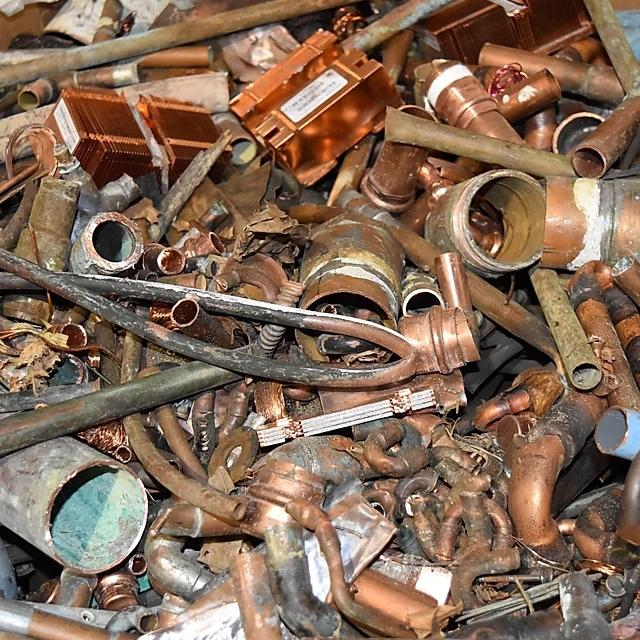metal: (0, 230, 425, 421), (0, 329, 286, 472), (0, 0, 460, 86), (227, 16, 418, 194), (0, 403, 152, 585), (281, 197, 429, 371), (488, 376, 620, 570), (377, 99, 639, 185), (342, 242, 504, 380), (404, 159, 559, 287), (27, 71, 159, 212), (410, 48, 546, 174), (408, 0, 605, 85), (129, 80, 236, 218), (519, 246, 615, 399), (281, 604, 625, 640), (212, 543, 330, 640), (130, 497, 223, 597), (0, 589, 170, 640), (568, 71, 639, 192), (329, 0, 482, 54), (357, 409, 434, 480)
